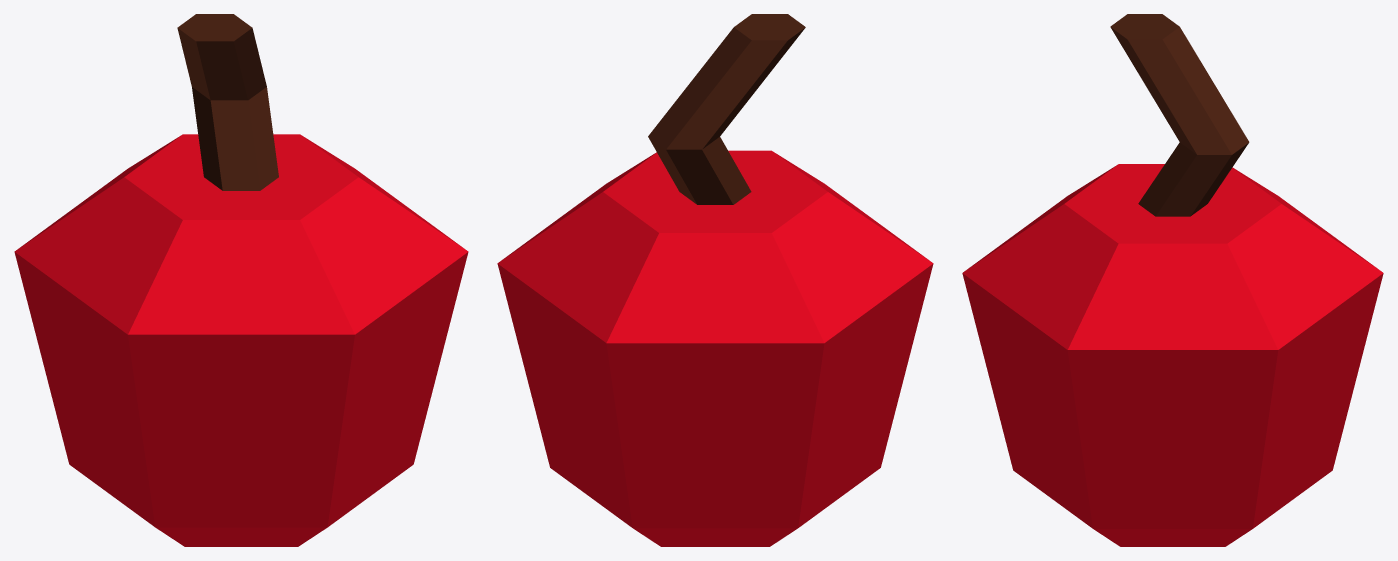
Rendered from Apple.fbx.
The picture shows the model from 3 angles, left to right: view 1: azimuth 30°, elevation 25°; view 2: azimuth 150°, elevation 25°; view 3: azimuth 270°, elevation 25°; orthographic projection. The views are drawn at different scales.
Visible parts, largest first — view 1: Cylinder; view 2: Cylinder; view 3: Cylinder.
Part boxes in pixels (left/top/right/bottom): Cylinder: left=14, top=14, right=468, bottom=546; Cylinder: left=497, top=14, right=933, bottom=546; Cylinder: left=962, top=14, right=1383, bottom=546.
Size of the model in its own units: 348 by 487 by 401.
